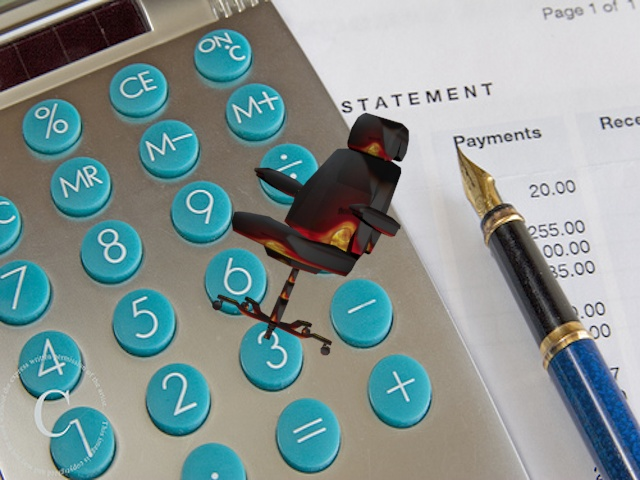desk_chair: (209, 112, 416, 368)
